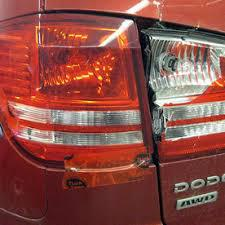Taillight-Damage: (0, 7, 224, 178)
